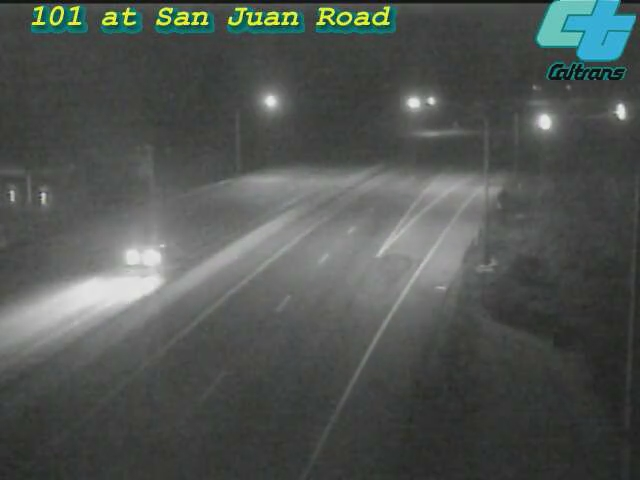vehicle: (103, 217, 183, 297), (517, 98, 567, 148), (593, 87, 640, 137)
